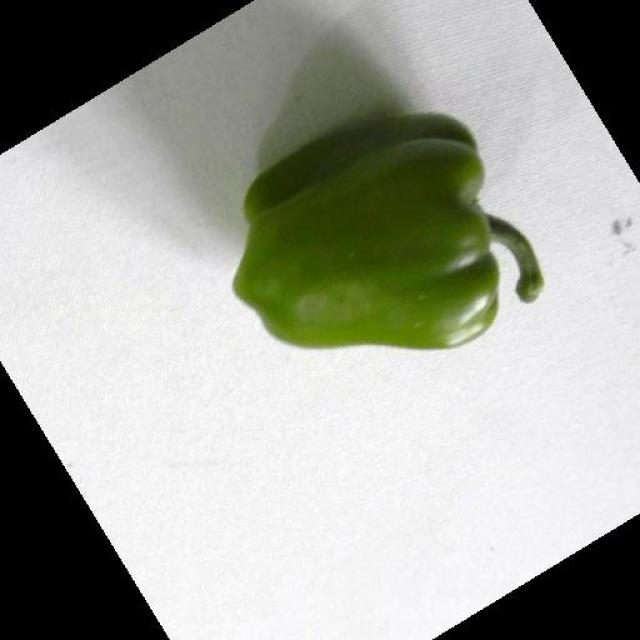Fresh_Capsicum: (207, 111, 586, 374)
